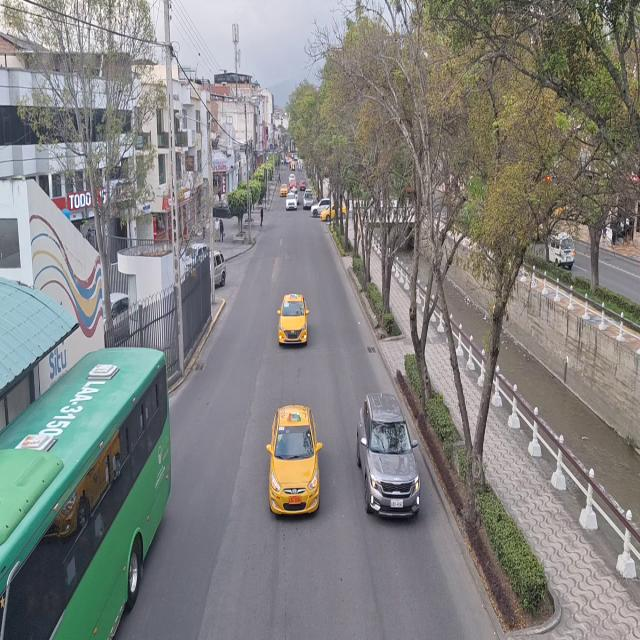BUS: (0, 358, 159, 639)
SED: (270, 402, 320, 519)
SUV: (355, 397, 418, 523)
